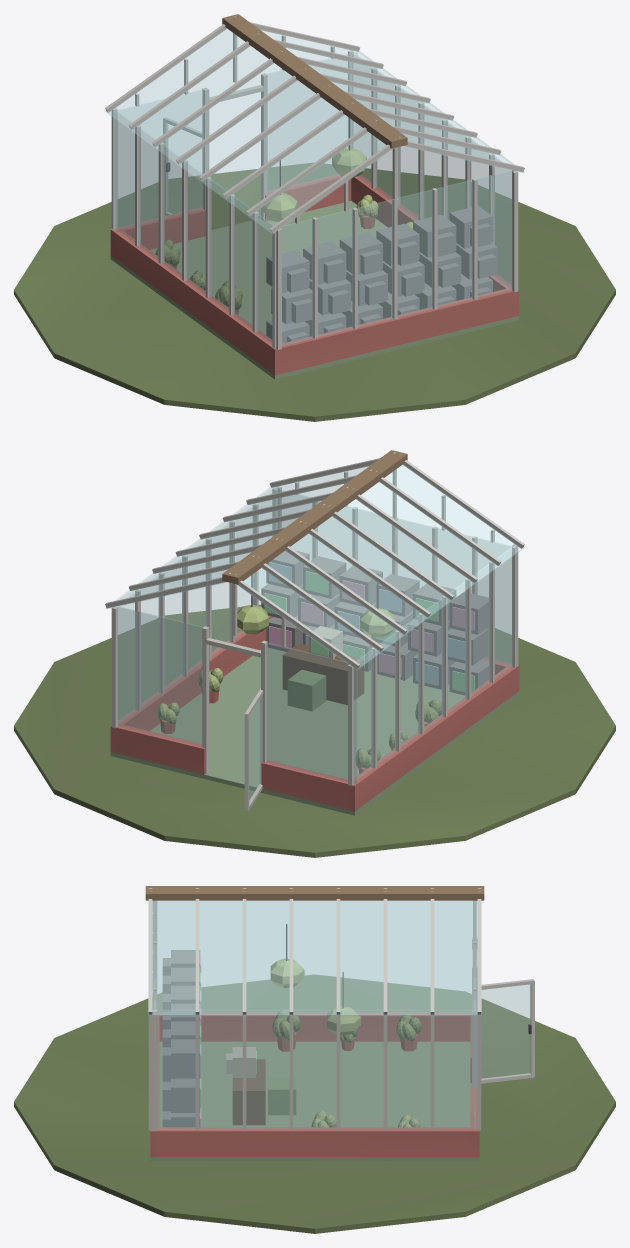
Rendered from GreenhouseArcade.fbx.
3 renders of one model, top to bottom at view 1: azimuth 30°, elevation 25°; view 2: azimuth 150°, elevation 25°; view 3: azimuth 270°, elevation 25°, orthographic.
Parts seen in each view (by area): view 1: Bld_GreenhouseArcade, Bld_GreenhouseArcade_Roof; view 2: Bld_GreenhouseArcade, Bld_GreenhouseArcade_Roof; view 3: Bld_GreenhouseArcade, Bld_GreenhouseArcade_Roof.
Part boxes in pixels (box(x1,y1,x2,y2)): Bld_GreenhouseArcade: box(14, 50, 615, 421); Bld_GreenhouseArcade_Roof: box(105, 14, 524, 234); Bld_GreenhouseArcade: box(14, 486, 615, 857); Bld_GreenhouseArcade_Roof: box(105, 450, 524, 670); Bld_GreenhouseArcade: box(14, 901, 615, 1233); Bld_GreenhouseArcade_Roof: box(145, 886, 484, 1015).
Bounding box in the file's own units: 12.8 × 5.09 × 12.8.
